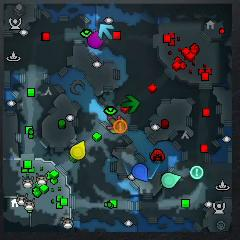Other: (114, 119, 127, 134), (190, 165, 203, 179)
p1: (132, 164, 148, 181)
p2: (162, 173, 181, 188)
p3: (88, 30, 104, 49)
p4: (70, 140, 85, 159)
x1: (106, 115, 121, 129)
x2: (110, 118, 126, 134)
x3: (98, 23, 114, 39)
x4: (122, 95, 139, 113)
